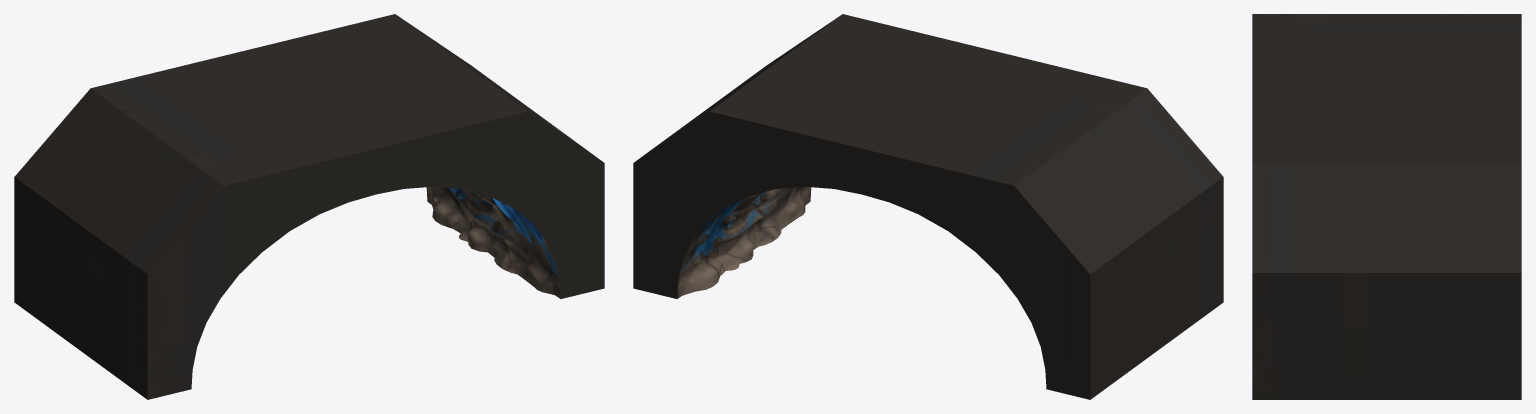
Rendered from SM_IceCave_Segment_B.glb.
3 renders of one model, left to right at view 1: azimuth 30°, elevation 25°; view 2: azimuth 150°, elevation 25°; view 3: azimuth 270°, elevation 25°, orthographic.
Visible parts, largest first — view 1: SM_IceCave_Segment_B; view 2: SM_IceCave_Segment_B; view 3: SM_IceCave_Segment_B.
Part boxes in pixels (x1=…): SM_IceCave_Segment_B: x1=14, y1=14, x2=604, y2=399; SM_IceCave_Segment_B: x1=633, y1=14, x2=1223, y2=399; SM_IceCave_Segment_B: x1=1252, y1=14, x2=1521, y2=399.
Bounding box in the file's own units: 19.8 × 8.1 × 10.
Materials: 1 (1 with a texture image).
